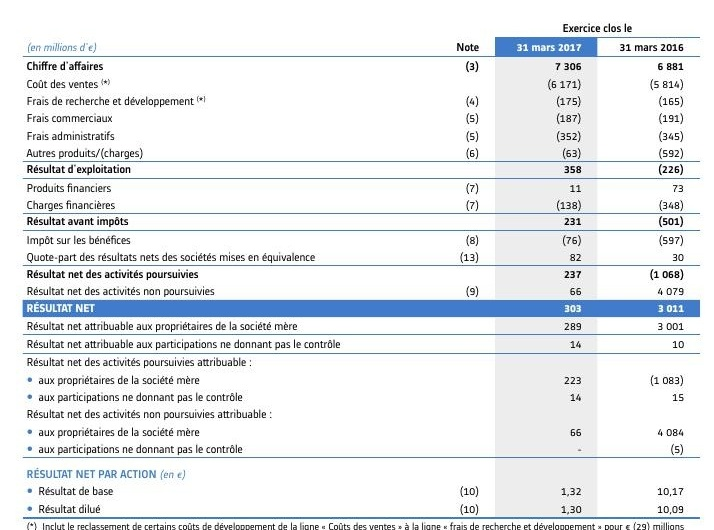table: (0, 0, 714, 530)
